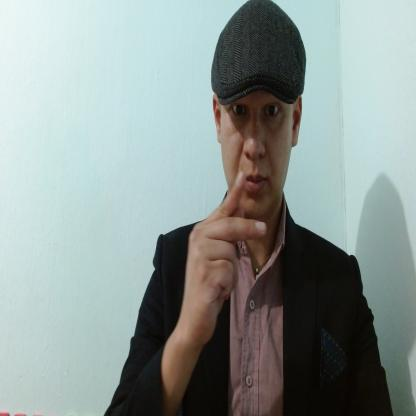P: (181, 165, 266, 346)
